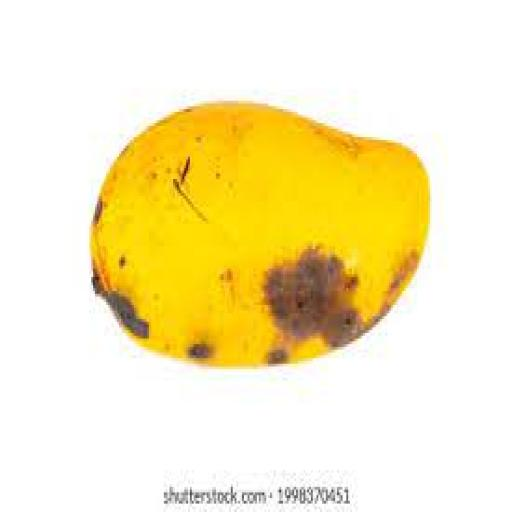mango-overripe: (53, 79, 449, 389)
